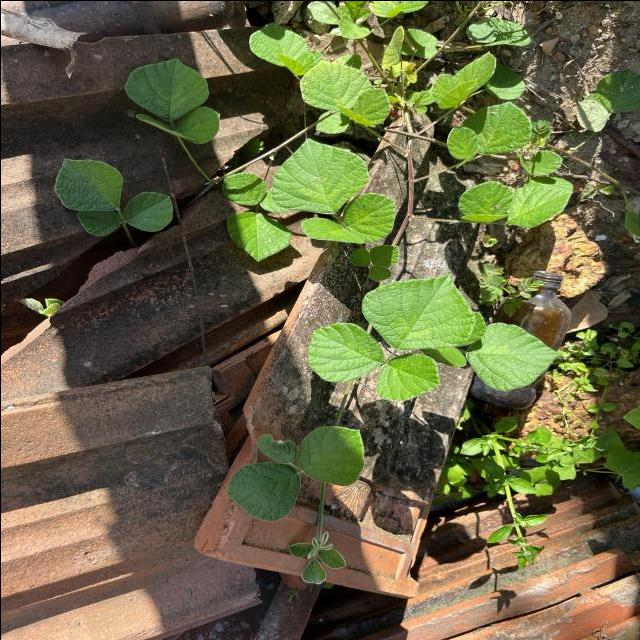Pseudarthria viscida: (304, 269, 487, 402), (268, 136, 398, 246), (223, 423, 366, 522), (51, 156, 175, 237), (120, 55, 222, 145), (296, 57, 392, 128), (456, 178, 575, 228)
